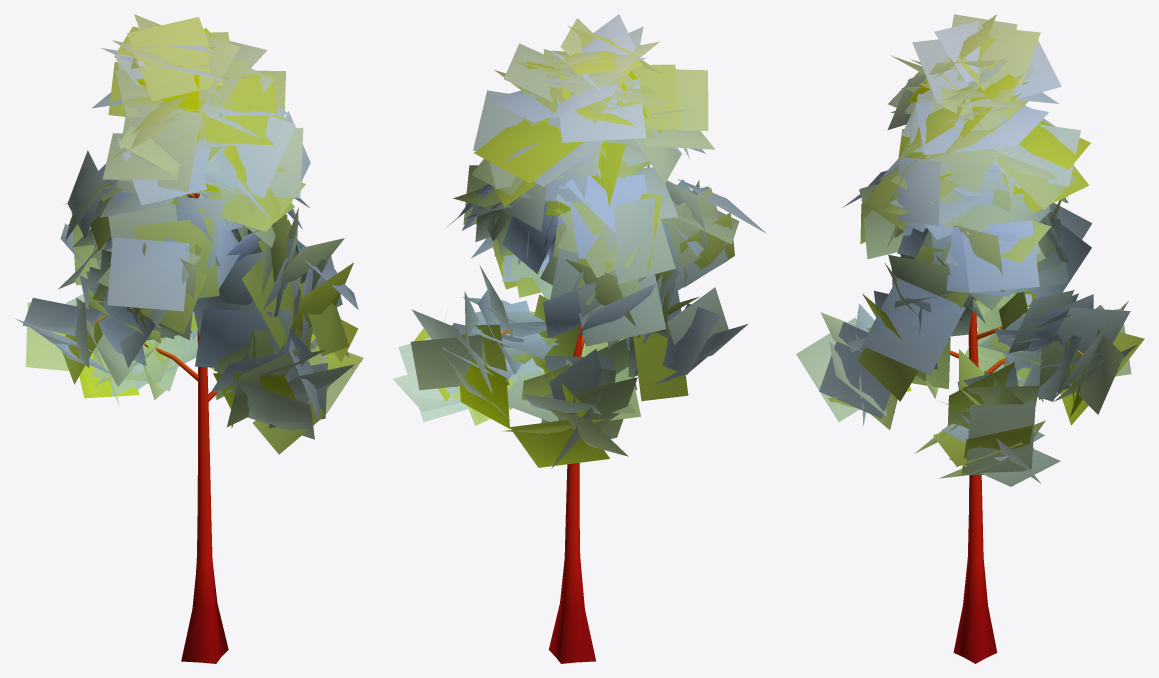
File: birch_a.glb
3 views of the same model, side by side, from view 1: azimuth 30°, elevation 25°; view 2: azimuth 150°, elevation 25°; view 3: azimuth 270°, elevation 25° (orthographic). The views are drawn at different scales.
Visible parts, largest first — view 1: birch_a; view 2: birch_a; view 3: birch_a.
Part boxes in pixels (bbox=[...]): birch_a: bbox=[15, 14, 363, 663]; birch_a: bbox=[392, 14, 766, 663]; birch_a: bbox=[796, 14, 1144, 663].
Size of the model in its own units: 5.83 by 10.69 by 5.53.
